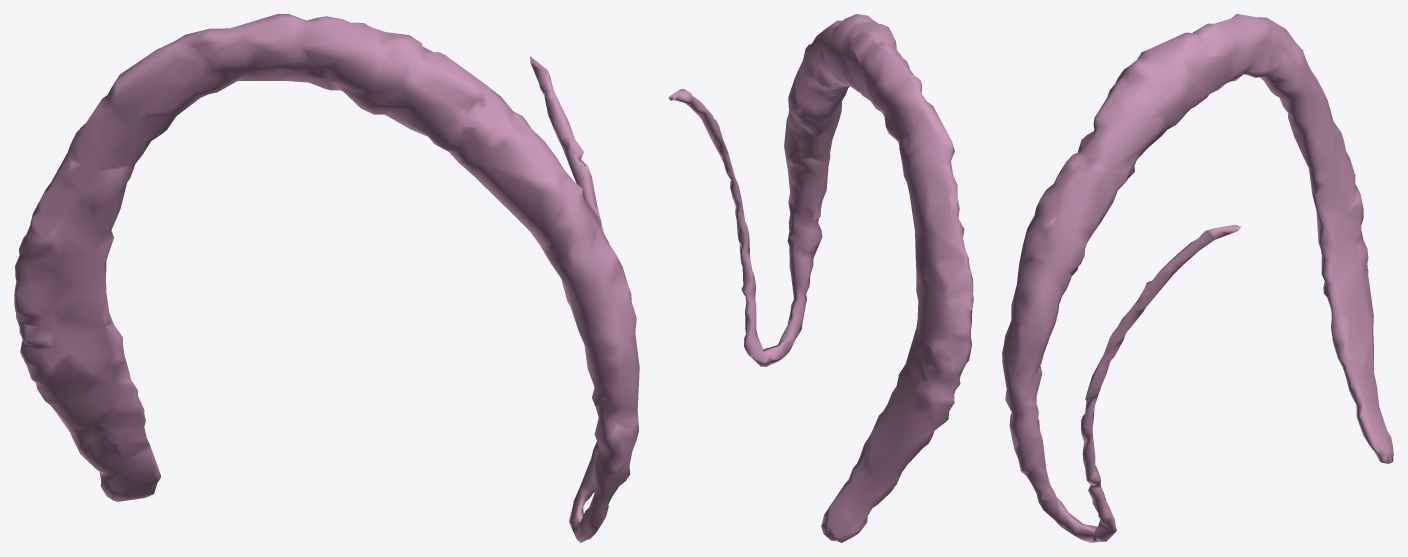
The picture shows the model from 3 angles, left to right: view 1: azimuth 30°, elevation 25°; view 2: azimuth 150°, elevation 25°; view 3: azimuth 270°, elevation 25°; orthographic projection. The views are drawn at different scales.
Parts seen in each view (by area): view 1: 右侧脉络丛; view 2: 右侧脉络丛; view 3: 右侧脉络丛.
Boxes of the visible parts, bbox=[...] form: 右侧脉络丛: bbox=[14, 14, 639, 542]; 右侧脉络丛: bbox=[668, 14, 973, 542]; 右侧脉络丛: bbox=[1002, 14, 1393, 542].
Size of the model in its own units: 0.0535 by 0.062 by 0.0484.
